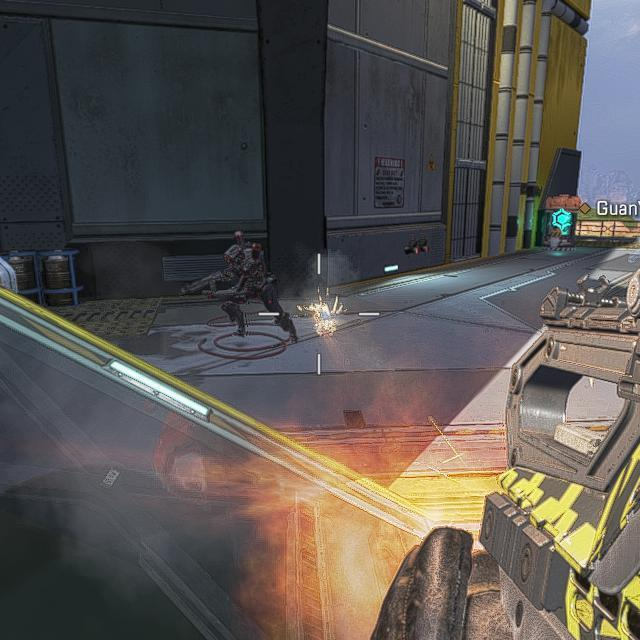avatar: (209, 239, 282, 346)
